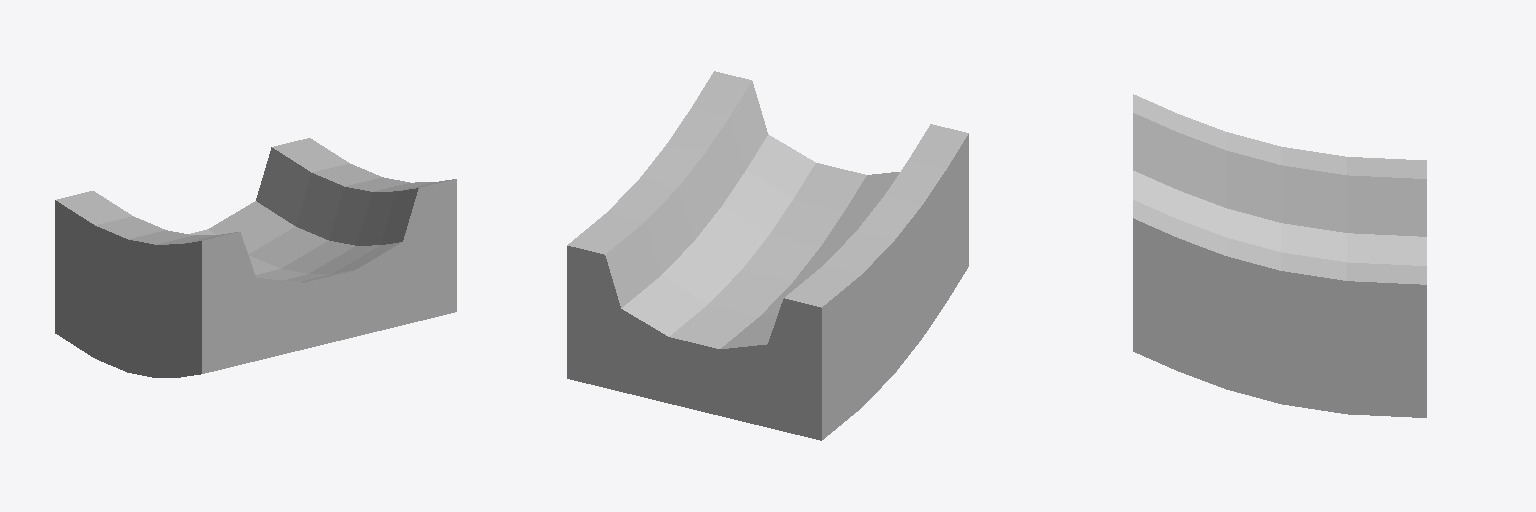
File: ramp-start-b.obj
3 renders of one model, left to right at view 1: azimuth 30°, elevation 25°; view 2: azimuth 150°, elevation 25°; view 3: azimuth 270°, elevation 25°, orthographic.
Visible parts, largest first — view 1: ramp-start-b; view 2: ramp-start-b; view 3: ramp-start-b.
Part boxes in pixels (left/top/right/bottom): ramp-start-b: left=55, top=138, right=456, bottom=377; ramp-start-b: left=567, top=71, right=968, bottom=440; ramp-start-b: left=1133, top=94, right=1426, bottom=417.
Bounding box in the file's own units: 1 × 0.75 × 1.